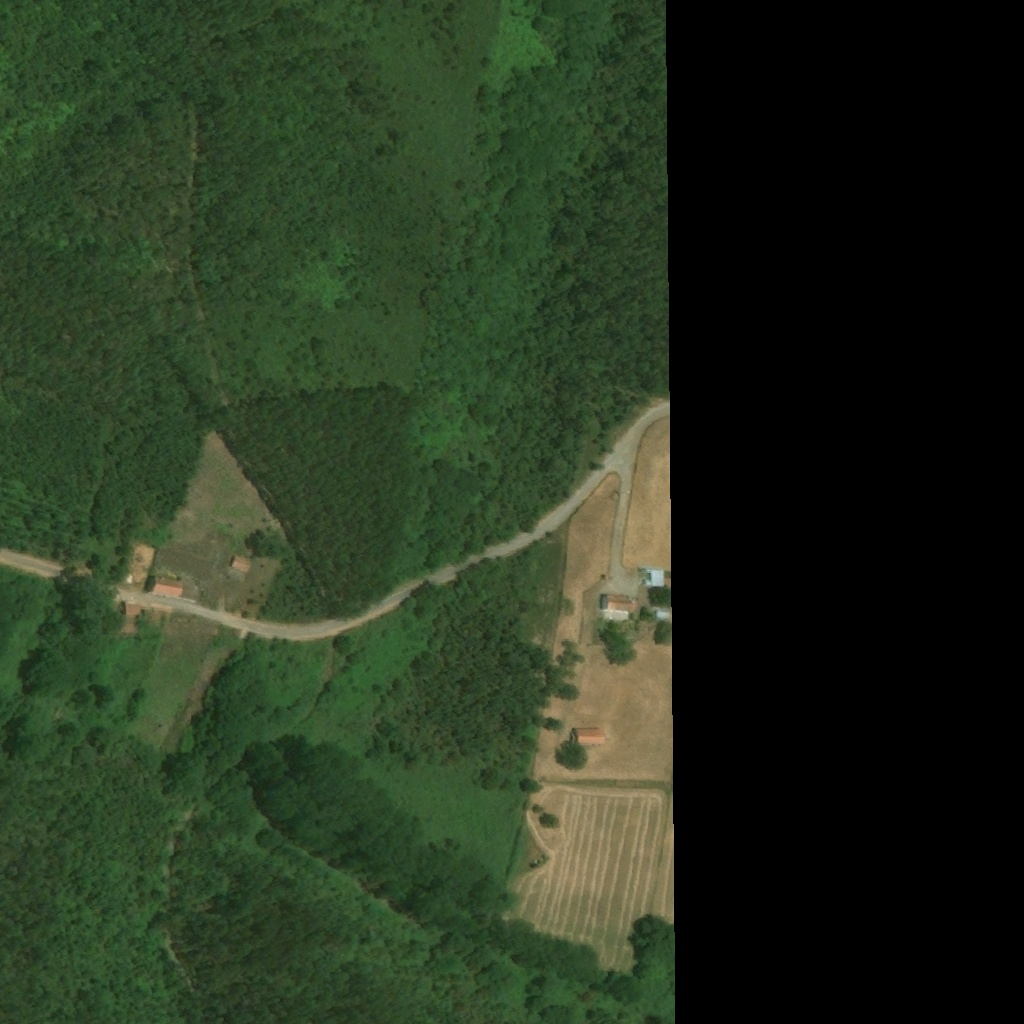0 no-damage: (144, 576, 184, 599), (600, 595, 635, 614), (570, 729, 605, 746), (229, 555, 251, 576), (640, 570, 664, 588), (123, 601, 140, 617), (654, 610, 671, 621), (601, 575, 607, 580)
4 un-classified: (665, 572, 676, 590)
